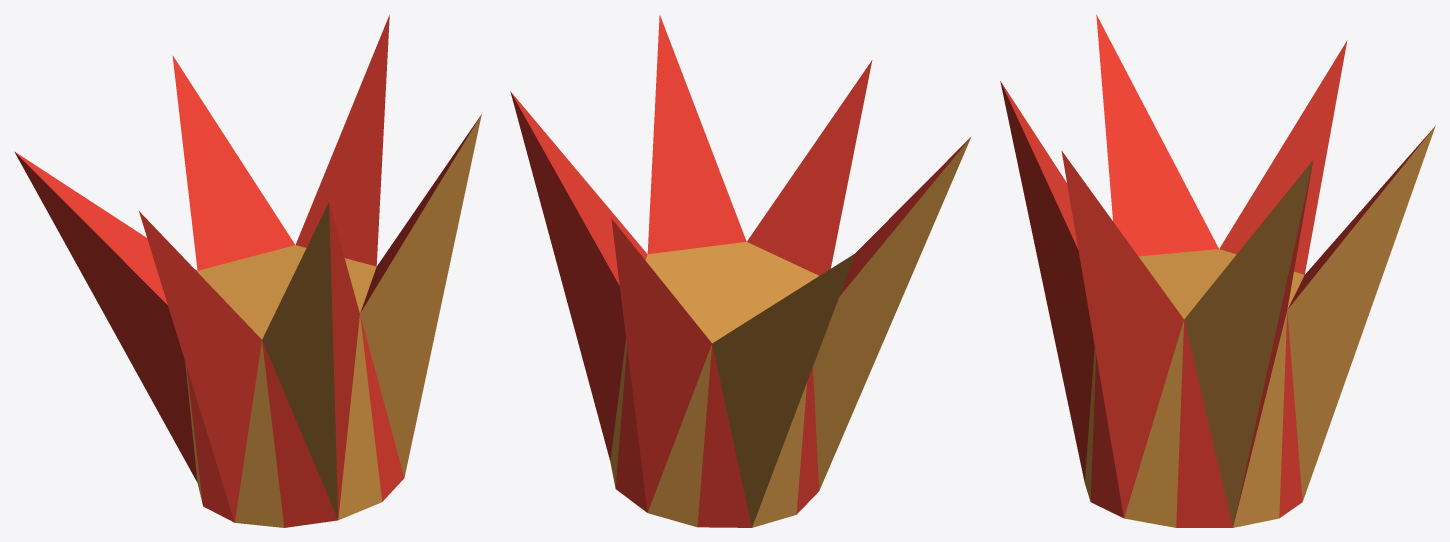
The model's file is crown-by-potential-synergy-3uTiBmJOhB0.glb.
3 views of the same model, side by side, from view 1: azimuth 30°, elevation 25°; view 2: azimuth 150°, elevation 25°; view 3: azimuth 270°, elevation 25° (orthographic). The views are drawn at different scales.
Parts seen in each view (by area): view 1: Node; view 2: Node; view 3: Node.
Part boxes in pixels (<box>): Node: <box>14,15,481,527</box>; Node: <box>510,15,971,527</box>; Node: <box>1000,14,1435,527</box>.
Size of the model in its own units: 0.1576 by 0.1672 by 0.1578.
